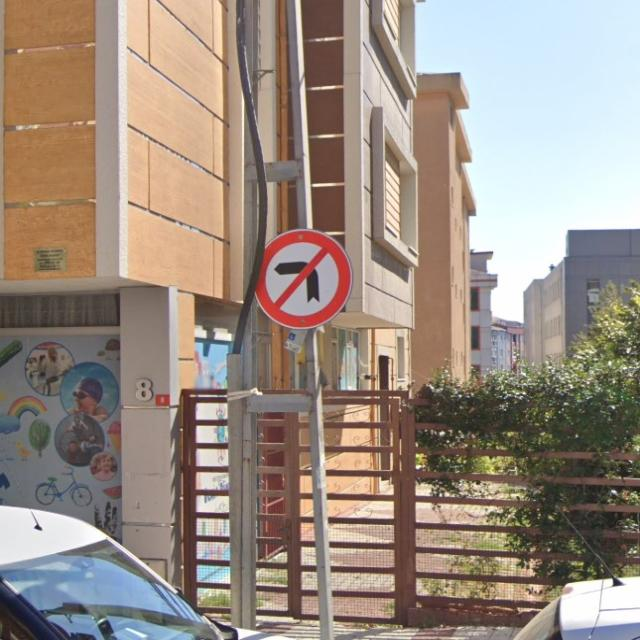soladonulmez: (250, 228, 352, 329)
